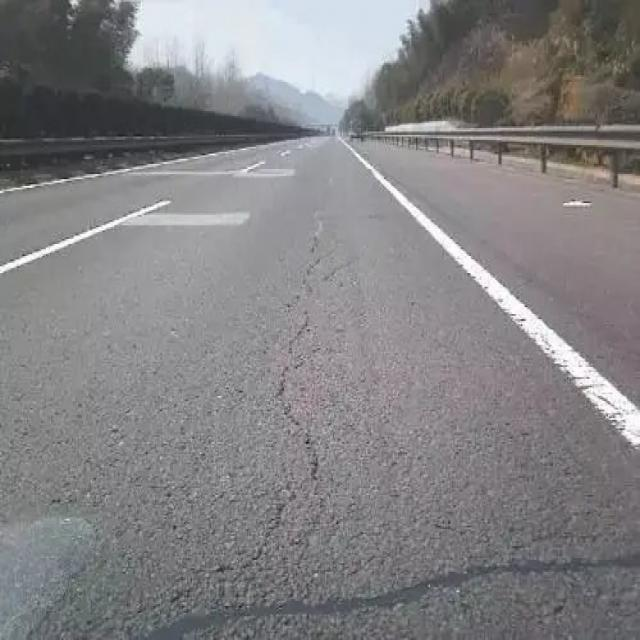Pothole: (261, 205, 338, 561)
